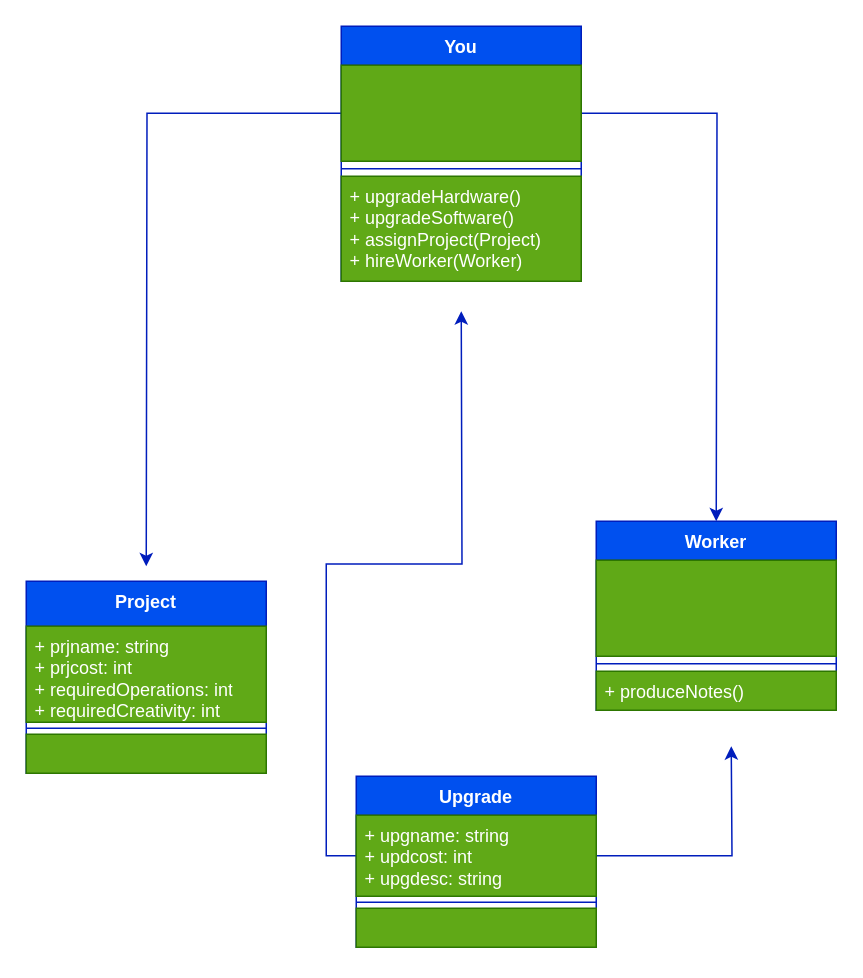
This 863x978 diagram has some shape labels left out. Here are the shapes that lost their labels. From the top down, the centre of each, then its label:
At [460,112]: "+ totalstickynotes: int + processors: int + operations: int + creativity: int".
At [715,607]: "+ wtype: char + efficiency: float + boredom: boolean +productionRate: float".
At [145,753]: "+ inEffect()".
At [475,927]: "+ applyUpgrade()".
